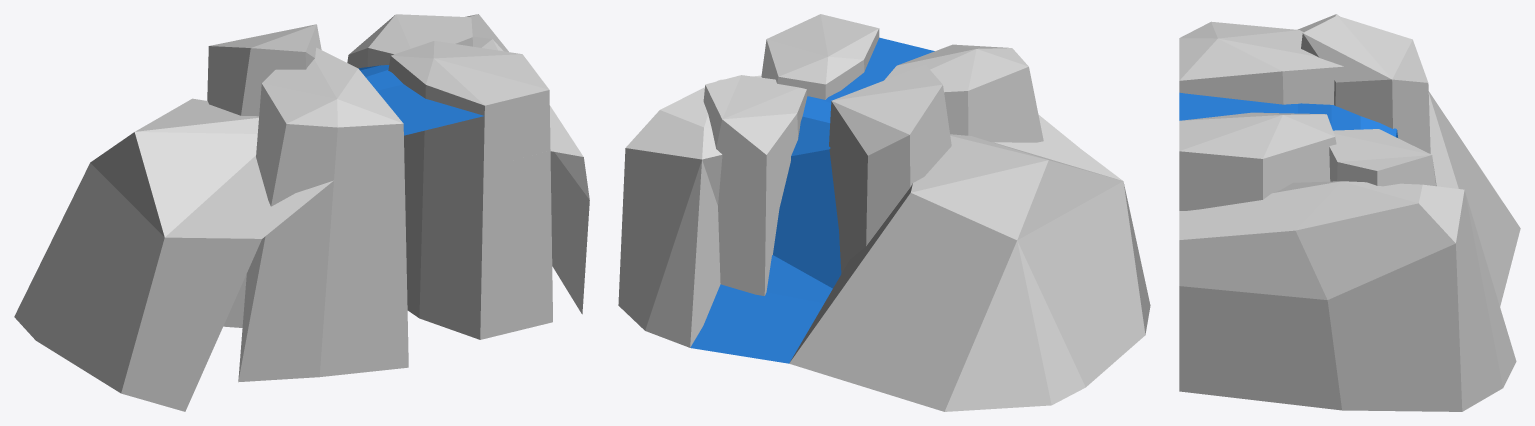
The model's file is Waterfall.fbx.
The picture shows the model from 3 angles, left to right: view 1: azimuth 30°, elevation 25°; view 2: azimuth 150°, elevation 25°; view 3: azimuth 270°, elevation 25°; orthographic projection. The views are drawn at different scales.
Parts seen in each view (by area): view 1: Waterfall_Small; view 2: Waterfall_Small; view 3: Waterfall_Small.
Part boxes in pixels (left/top/right/bottom): Waterfall_Small: left=14, top=14, right=589, bottom=411; Waterfall_Small: left=618, top=14, right=1150, bottom=411; Waterfall_Small: left=1179, top=14, right=1520, bottom=411.
Size of the model in its own units: 45.89 by 25.44 by 29.35.
